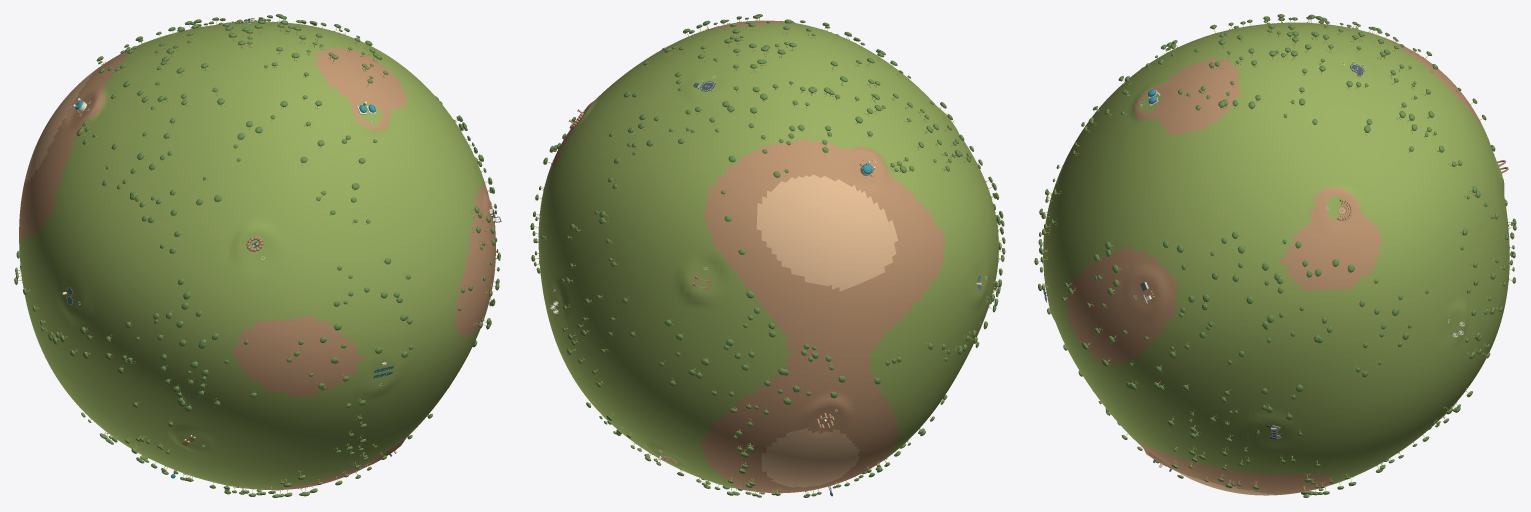
File: lurga_surface.glb
The picture shows the model from 3 angles, left to right: view 1: azimuth 30°, elevation 25°; view 2: azimuth 150°, elevation 25°; view 3: azimuth 270°, elevation 25°; orthographic projection.
Visible parts, largest first — view 1: terrain_surface_4-col, terrain_surface_1-col, terrain_surface_2-col, terrain_surface_3-col, grove_2, terrain_surface_0-col, grove_1, grove_4, grove_3, grove_0; view 2: terrain_surface_5-col, terrain_surface_1-col, terrain_surface_2-col, terrain_surface_0-col, grove_2, terrain_surface_3-col, grove_5, grove_1, grove_3; view 3: terrain_surface_0-col, terrain_surface_2-col, terrain_surface_5-col, terrain_surface_4-col, terrain_surface_3-col, grove_0, grove_2, grove_5, grove_4, grove_3.
Part boxes in pixels (left/top/right/bottom): terrain_surface_4-col: left=196, top=148, right=489, bottom=465; terrain_surface_1-col: left=19, top=101, right=209, bottom=447; terrain_surface_2-col: left=64, top=20, right=443, bottom=207; terrain_surface_3-col: left=97, top=407, right=434, bottom=489; grove_2: left=96, top=14, right=388, bottom=201; terrain_surface_0-col: left=407, top=69, right=495, bottom=356; grove_1: left=14, top=121, right=202, bottom=449; grove_4: left=196, top=158, right=492, bottom=461; grove_3: left=81, top=412, right=432, bottom=497; grove_0: left=435, top=96, right=500, bottom=347; terrain_surface_5-col: left=551, top=156, right=829, bottom=476; terrain_surface_1-col: left=820, top=119, right=998, bottom=466; terrain_surface_2-col: left=586, top=20, right=945, bottom=210; terrain_surface_0-col: left=538, top=78, right=619, bottom=386; grove_2: left=609, top=14, right=946, bottom=177; terrain_surface_3-col: left=594, top=406, right=898, bottom=493; grove_5: left=561, top=157, right=831, bottom=473; grove_1: left=829, top=114, right=1005, bottom=436; grove_3: left=613, top=428, right=924, bottom=497; terrain_surface_0-col: left=1110, top=171, right=1441, bottom=475; terrain_surface_2-col: left=1115, top=22, right=1446, bottom=186; terrain_surface_5-col: left=1415, top=69, right=1509, bottom=430; terrain_surface_4-col: left=1043, top=86, right=1143, bottom=432; terrain_surface_3-col: left=1123, top=425, right=1433, bottom=495; grove_0: left=1107, top=231, right=1428, bottom=482; grove_2: left=1118, top=14, right=1438, bottom=151; grove_5: left=1435, top=87, right=1516, bottom=427; grove_4: left=1034, top=106, right=1112, bottom=415; grove_3: left=1117, top=422, right=1431, bottom=497.
Size of the model in its own units: 503 by 515 by 506.
